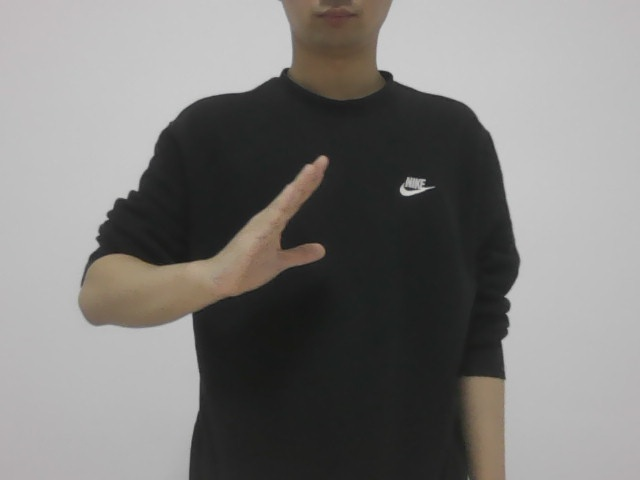morning: (188, 151, 353, 306)
